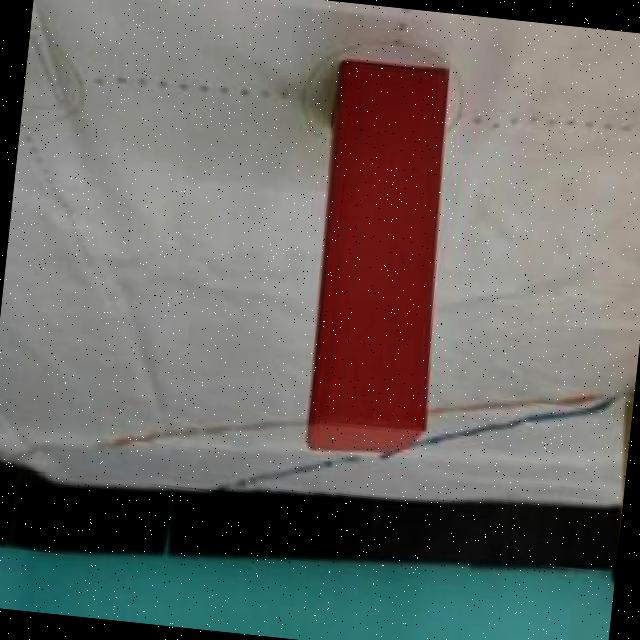redbox: (300, 59, 460, 460)
